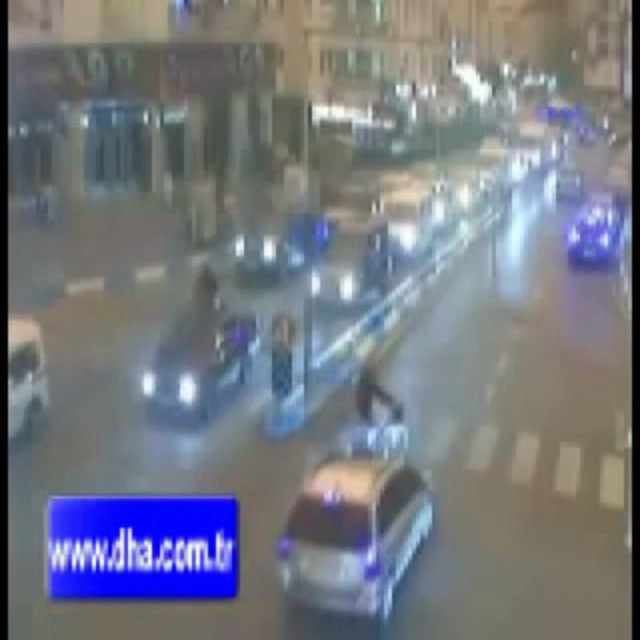acc: (281, 356, 434, 624)
